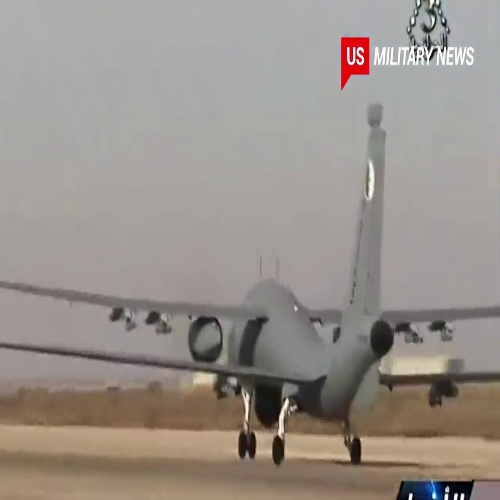uav: (4, 100, 499, 469)
